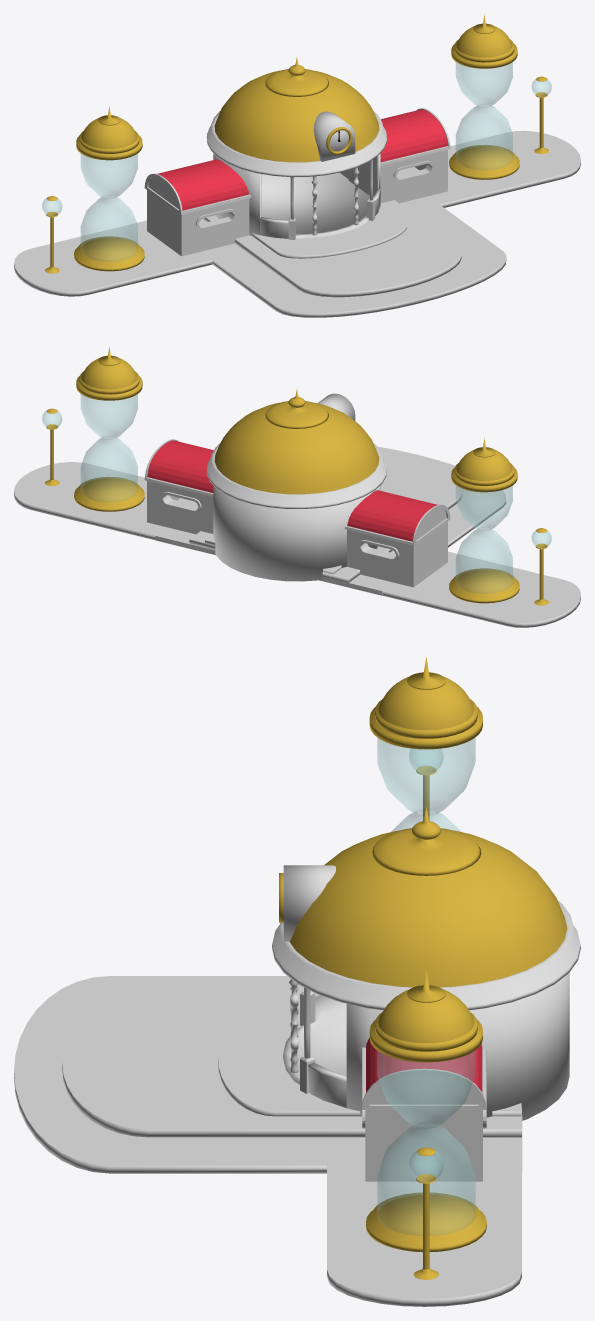
File: time_chamber_material5.glb
3 renders of one model, top to bottom at view 1: azimuth 30°, elevation 25°; view 2: azimuth 150°, elevation 25°; view 3: azimuth 270°, elevation 25°, orthographic. The views are drawn at different scales.
Parts seen in each view (by area): view 1: Sphere.002; view 2: Sphere.002; view 3: Sphere.002.
Part boxes in pixels (<box>): Sphere.002: <box>14,14,580,317</box>; Sphere.002: <box>14,347,580,627</box>; Sphere.002: <box>14,657,580,1306</box>.
Size of the model in its own units: 62.04 by 17.26 by 32.58.
